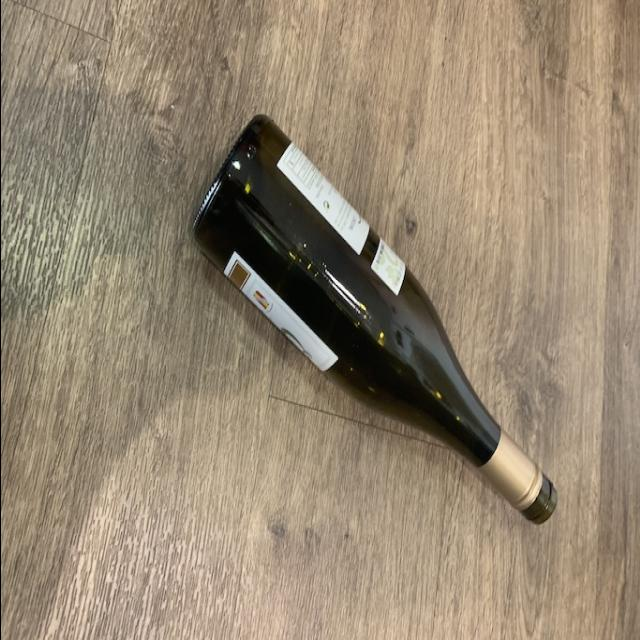litter: (181, 109, 556, 525)
